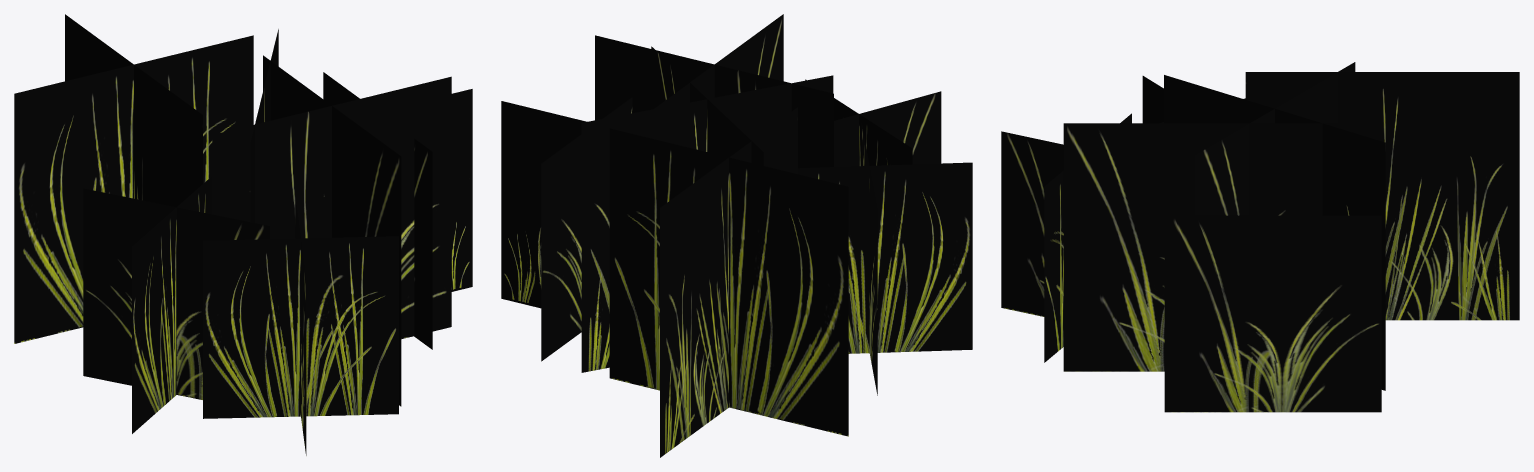
File: grass_patch1.fbx
3 views of the same model, side by side, from view 1: azimuth 30°, elevation 25°; view 2: azimuth 150°, elevation 25°; view 3: azimuth 270°, elevation 25° (orthographic).
Visible parts, largest first — view 1: Plane.001; view 2: Plane.001; view 3: Plane.001.
Boxes of the visible parts, box(x1,y1,x2,y2) form: Plane.001: box(14, 14, 472, 455); Plane.001: box(501, 14, 972, 457); Plane.001: box(1001, 62, 1519, 412).
Size of the model in its own units: 63.51 by 37.52 by 70.78.
